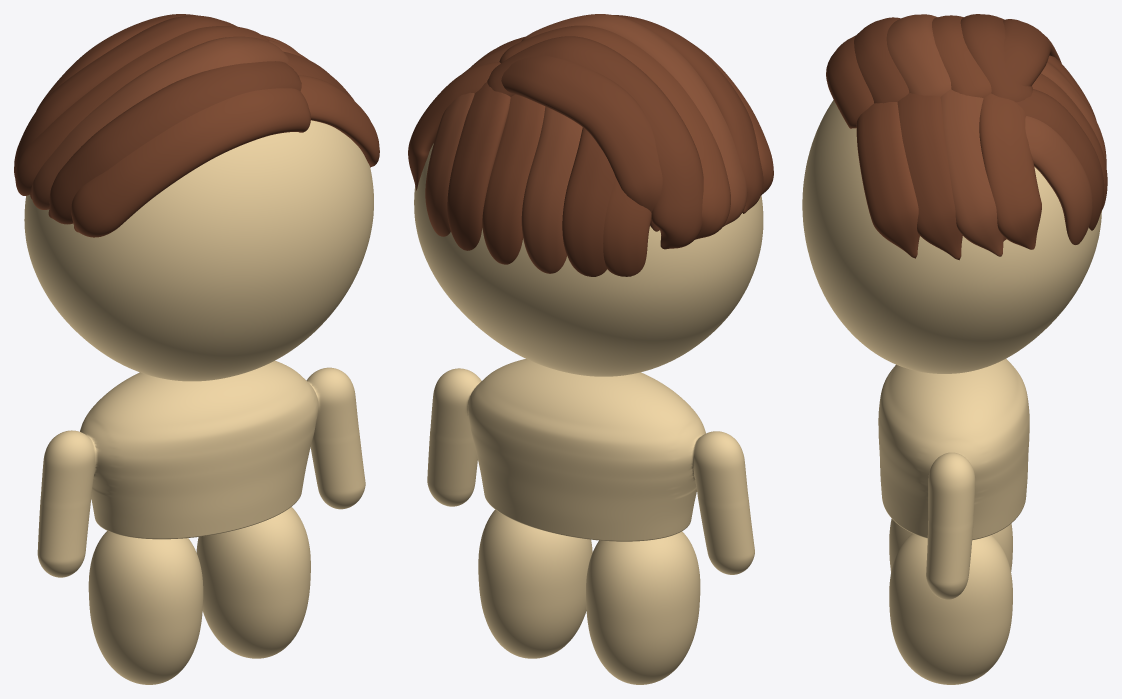
File: Masculine-base.glb
3 renders of one model, left to right at view 1: azimuth 30°, elevation 25°; view 2: azimuth 150°, elevation 25°; view 3: azimuth 270°, elevation 25°, orthographic.
Visible parts, largest first — view 1: Skin / soft oval head, Skin / rounded torso, Skin / leg blob -1, Skin / leg blob 1, Hair / Side part main 0, Hair / Side part main 1, Hair / Side part main 2, Hair / Side part main 3, Hair / Side part main 4, Hair / Side part short 0, Hair / Side part crown, Hair / Side part short 1; view 2: Skin / rounded torso, Skin / soft oval head, Skin / leg blob -1, Skin / leg blob 1, Hair / Side part crown, Hair / Side part main 4, Hair / Side part nape 2, Hair / Side part main 3, Hair / Side part nape 3, Hair / Side part nape 4, Hair / Side part main 2, Hair / Side part nape 1 (+5 smaller); view 3: Skin / soft oval head, Skin / rounded torso, Skin / leg blob 1, Hair / Side part short 3, Hair / Side part short 0, Hair / Side part short 1, Hair / Side part short 2, Hair / Side part nape 5, Hair / Side part main 2, Hair / Side part nape 4, Hair / Side part main 4, Hair / Side part main 1 (+6 smaller).
Boxes of the visible parts, bbox=[...] form: Skin / soft oval head: bbox=[24, 120, 373, 381]; Skin / rounded torso: bbox=[37, 360, 365, 577]; Skin / leg blob -1: bbox=[88, 531, 203, 684]; Skin / leg blob 1: bbox=[196, 507, 310, 658]; Hair / Side part main 0: bbox=[71, 88, 310, 237]; Hair / Side part main 1: bbox=[48, 61, 301, 224]; Hair / Side part main 2: bbox=[31, 36, 288, 209]; Hair / Side part main 3: bbox=[15, 26, 269, 195]; Hair / Side part main 4: bbox=[14, 15, 236, 177]; Hair / Side part short 0: bbox=[298, 75, 379, 167]; Hair / Side part crown: bbox=[36, 14, 197, 110]; Hair / Side part short 1: bbox=[283, 51, 354, 100]; Skin / rounded torso: bbox=[427, 359, 754, 574]; Skin / soft oval head: bbox=[414, 143, 763, 376]; Skin / leg blob -1: bbox=[586, 531, 700, 684]; Skin / leg blob 1: bbox=[478, 509, 592, 658]; Hair / Side part crown: bbox=[501, 55, 662, 231]; Hair / Side part main 4: bbox=[487, 36, 703, 249]; Hair / Side part nape 2: bbox=[521, 106, 582, 273]; Hair / Side part main 3: bbox=[499, 25, 730, 239]; Hair / Side part nape 3: bbox=[482, 94, 545, 264]; Hair / Side part nape 4: bbox=[447, 82, 510, 250]; Hair / Side part main 2: bbox=[521, 14, 747, 226]; Hair / Side part nape 1: bbox=[562, 127, 615, 276]; Skin / soft oval head: bbox=[802, 100, 1101, 373]; Skin / rounded torso: bbox=[878, 359, 1029, 599]; Skin / leg blob 1: bbox=[889, 533, 1012, 684]; Hair / Side part short 3: bbox=[979, 93, 1041, 249]; Hair / Side part short 0: bbox=[856, 102, 919, 258]; Hair / Side part short 1: bbox=[897, 93, 962, 260]; Hair / Side part short 2: bbox=[940, 89, 1003, 256]; Hair / Side part nape 5: bbox=[1025, 116, 1092, 244]; Hair / Side part main 2: bbox=[886, 14, 951, 96]; Hair / Side part nape 4: bbox=[1016, 89, 1104, 230]; Hair / Side part main 4: bbox=[960, 14, 1032, 102]; Hair / Side part main 1: bbox=[854, 17, 909, 103].
Size of the model in its own units: 0.9955 by 1.87 by 0.825.
